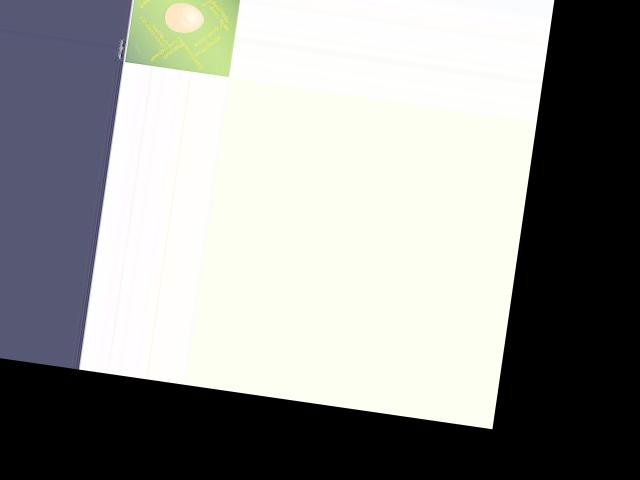egg: (163, 0, 205, 35)
